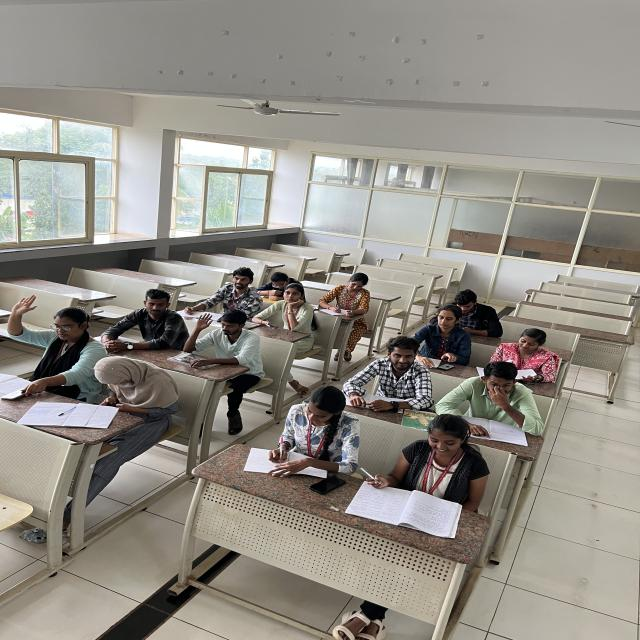Hand Rising: (0, 282, 93, 391)
Sleeping: (259, 269, 293, 293)
Using Phone: (75, 348, 175, 422), (184, 309, 270, 380), (448, 291, 504, 335)
Writing: (362, 407, 484, 518), (262, 386, 360, 486), (317, 270, 379, 333)
